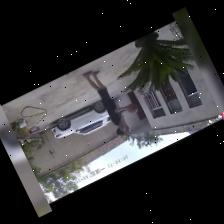person: (82, 70, 129, 134)
